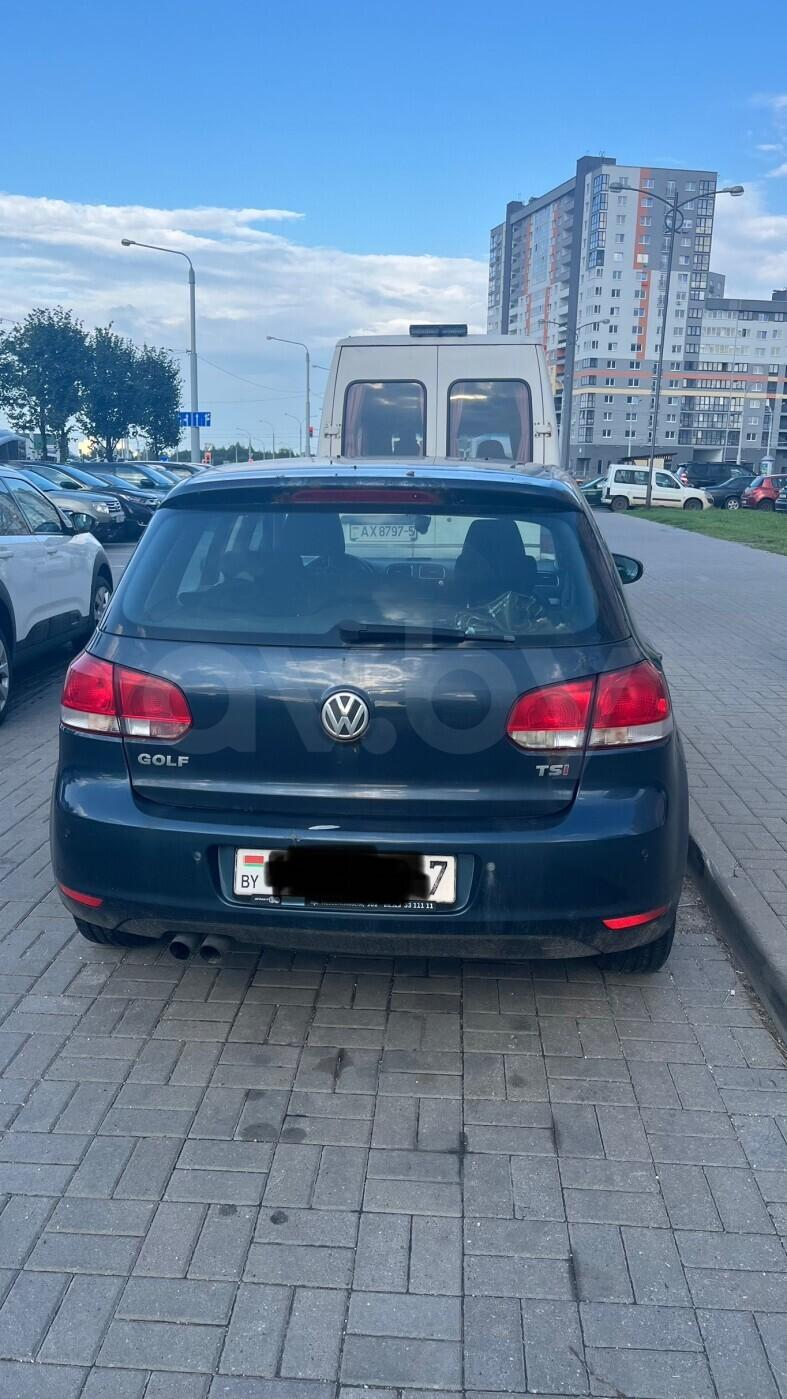Golf_2008-2013: (45, 450, 712, 994)
